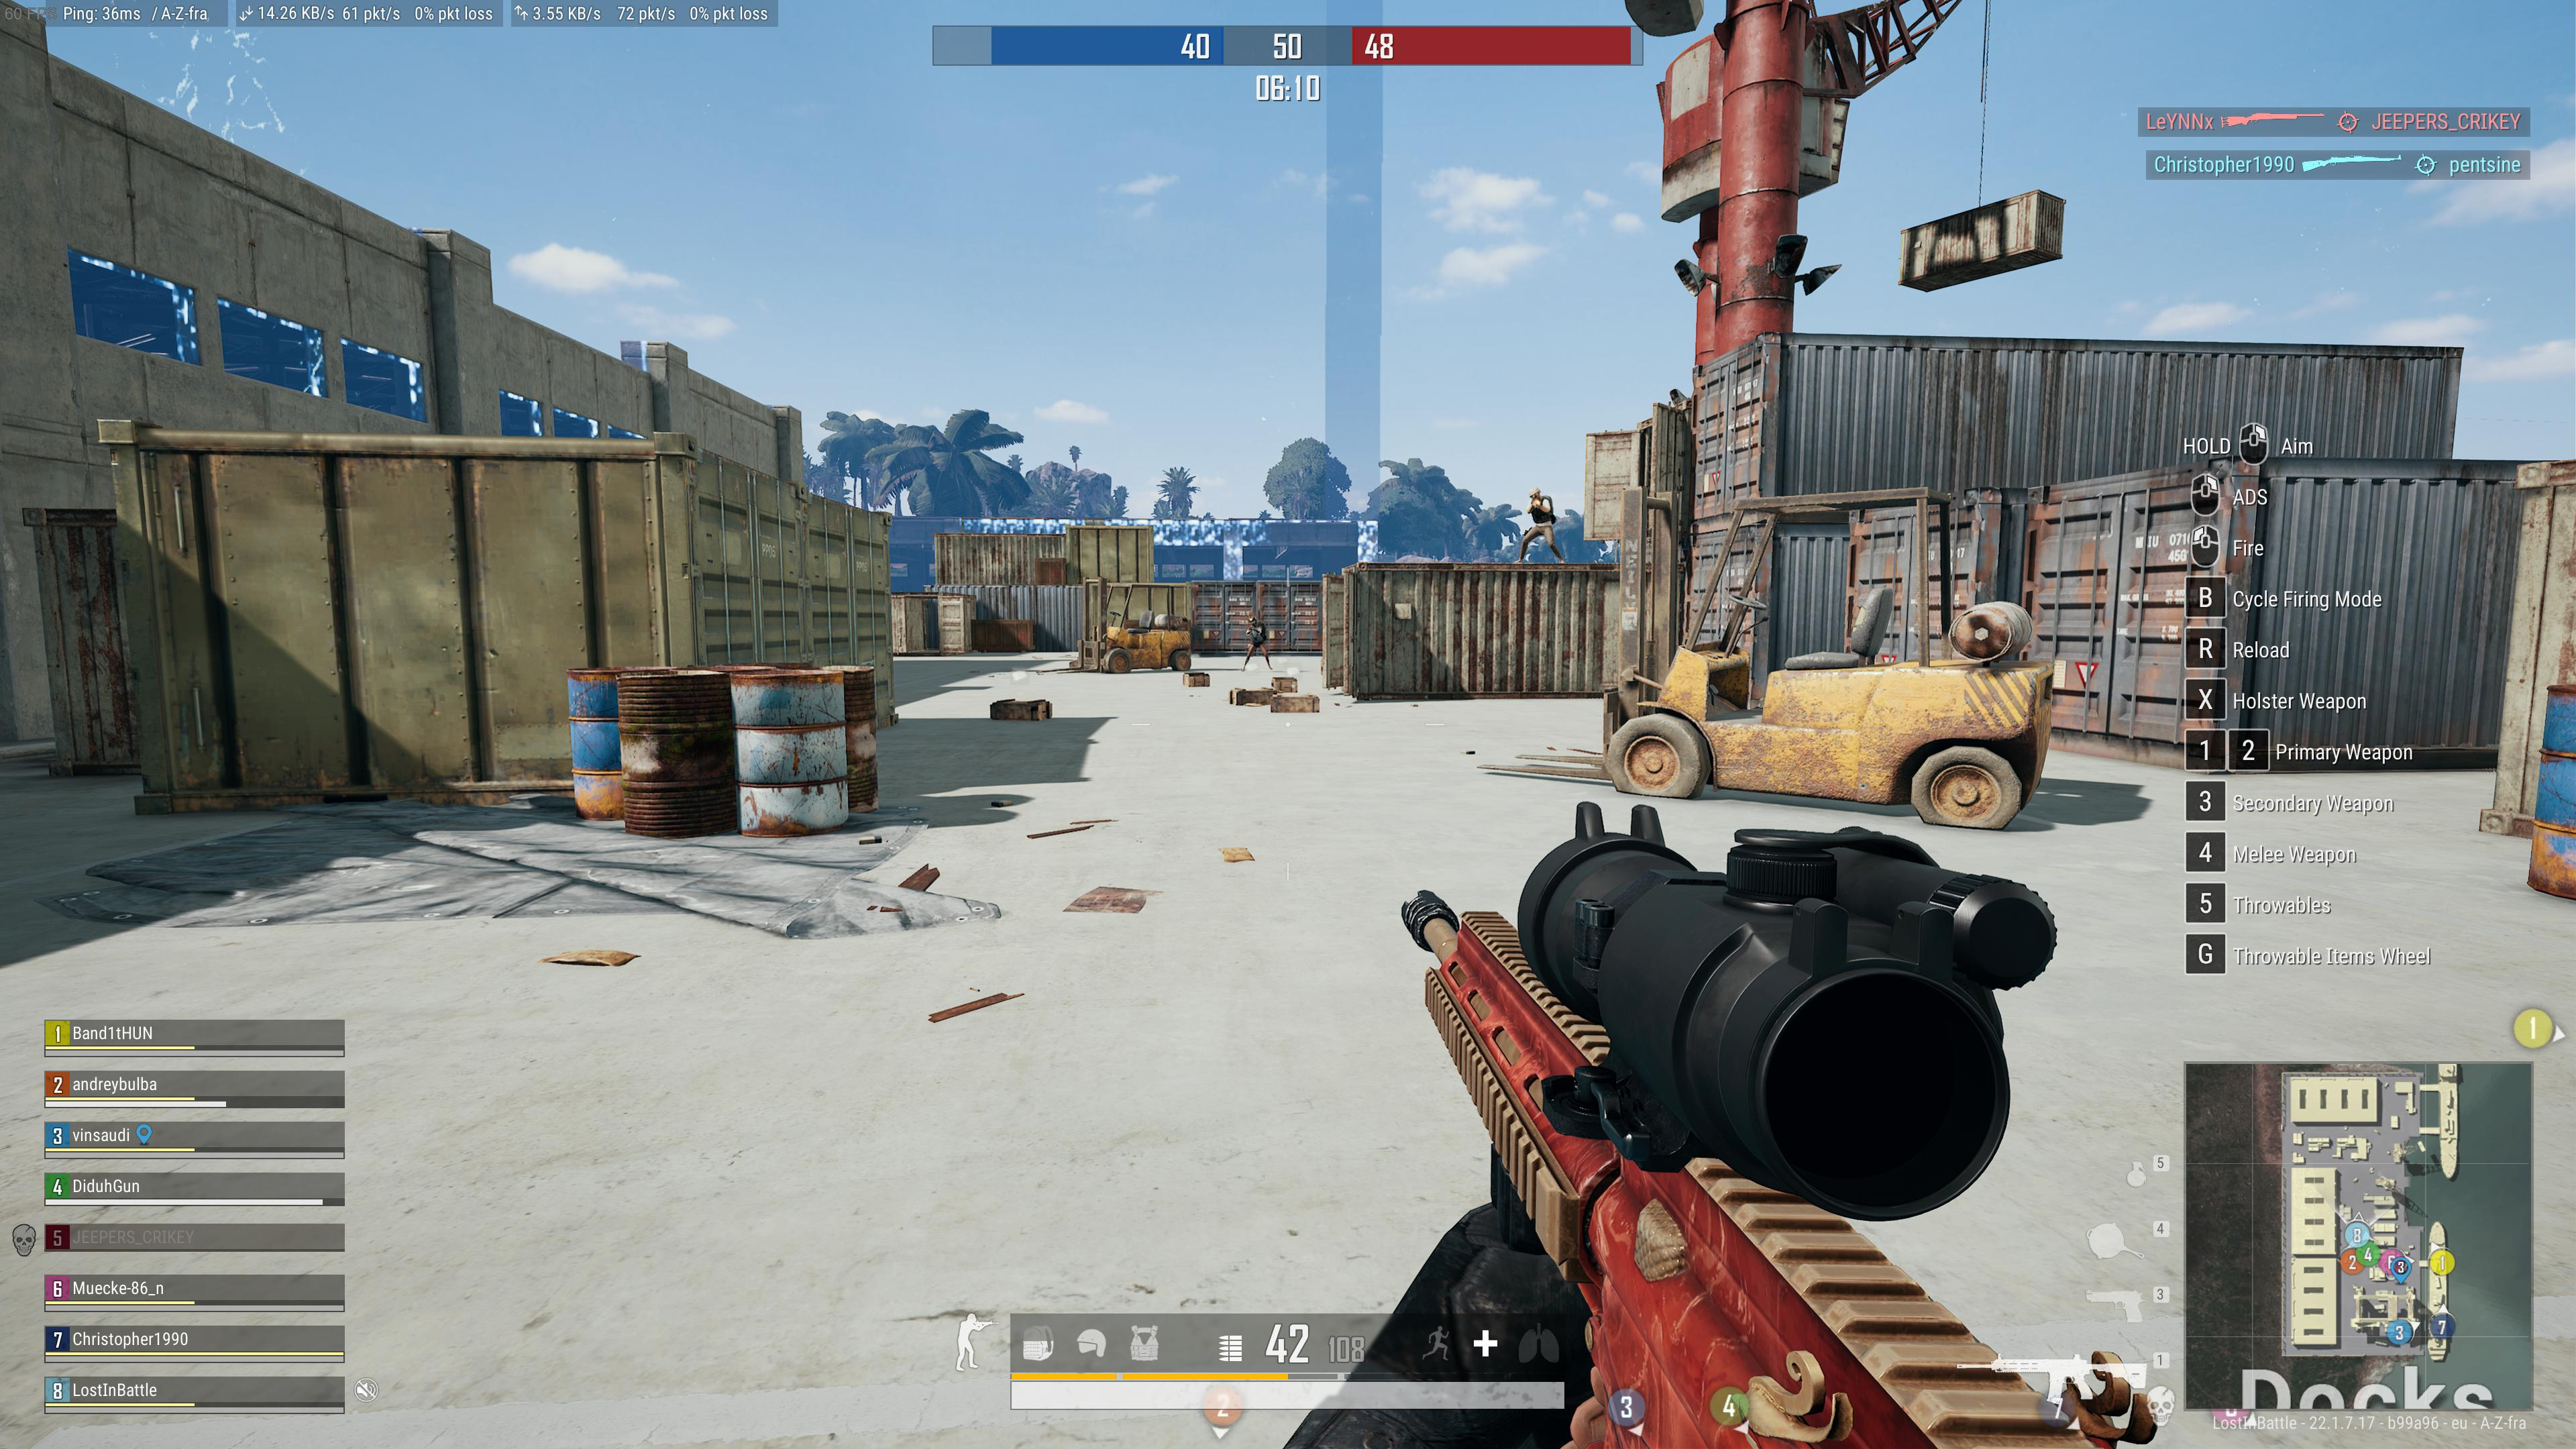enemy: (1513, 487, 1562, 563), (1240, 614, 1272, 672)
enemy_head: (1527, 487, 1541, 501), (1247, 614, 1256, 628)
